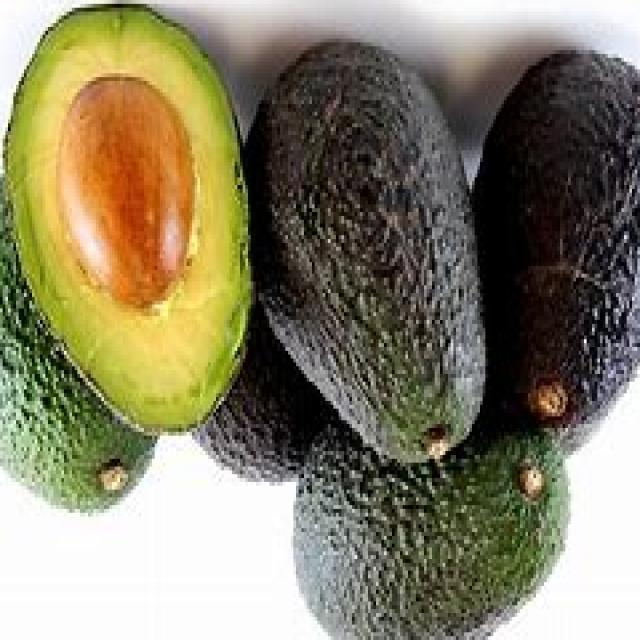avocado: (10, 0, 259, 432), (243, 42, 479, 469), (482, 52, 638, 460), (287, 423, 574, 640)
